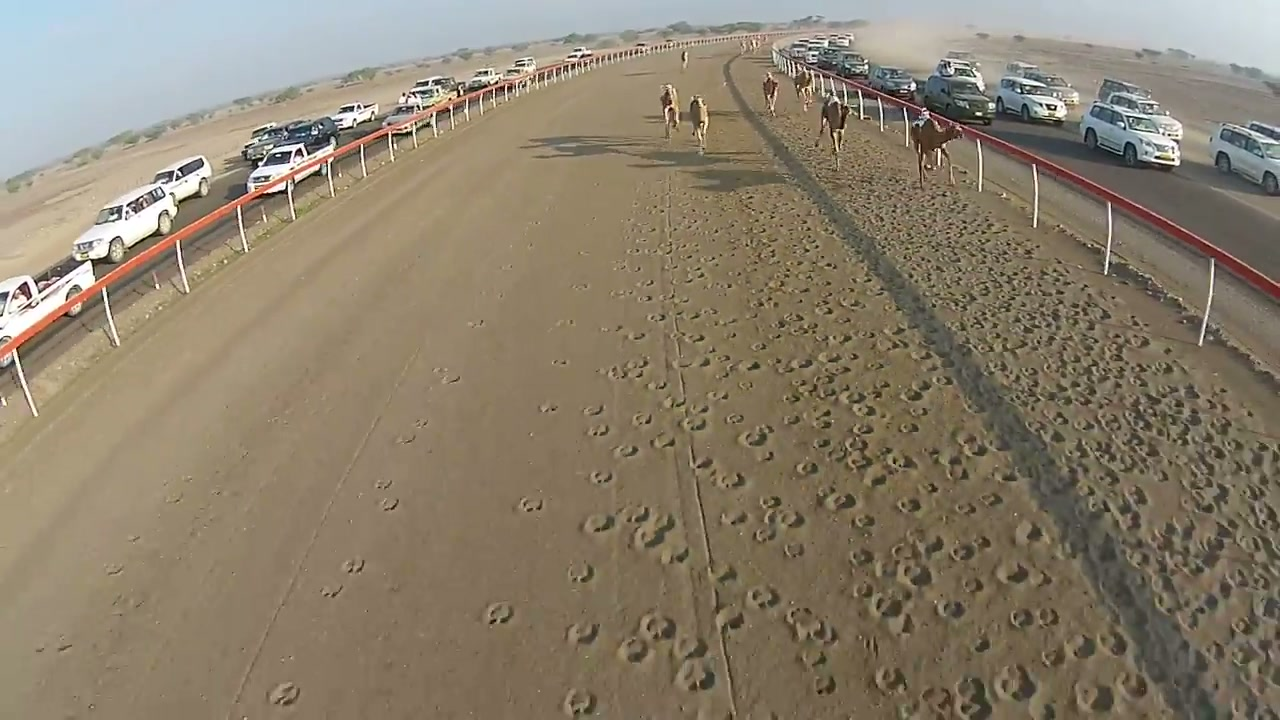animal_foot_print: (547, 128, 1279, 717)
